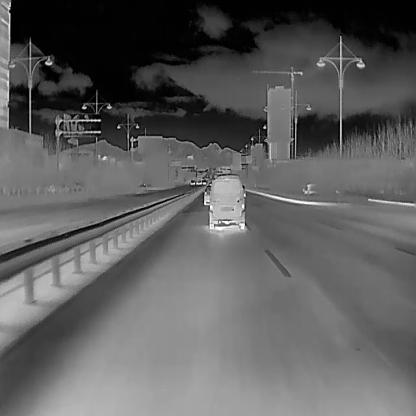car: (208, 173, 245, 230), (204, 185, 209, 205), (196, 179, 201, 184), (190, 180, 194, 184), (202, 180, 206, 184)
